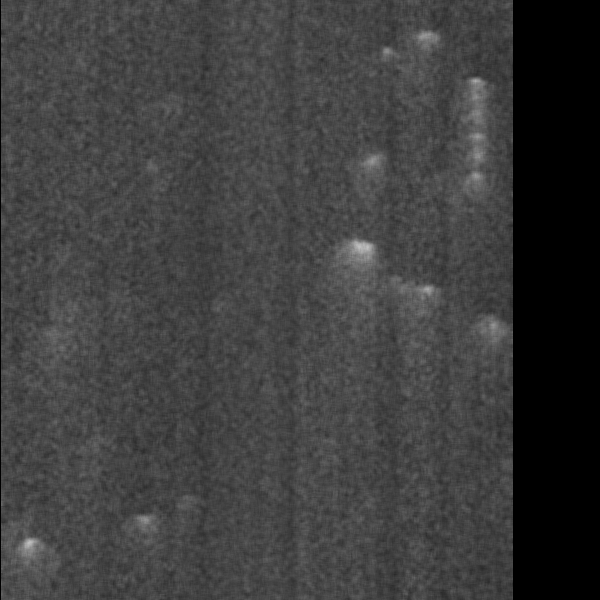spark: (13, 397, 102, 525), (442, 499, 475, 597), (191, 449, 234, 501), (212, 318, 248, 366), (191, 153, 227, 194), (109, 217, 130, 262)
